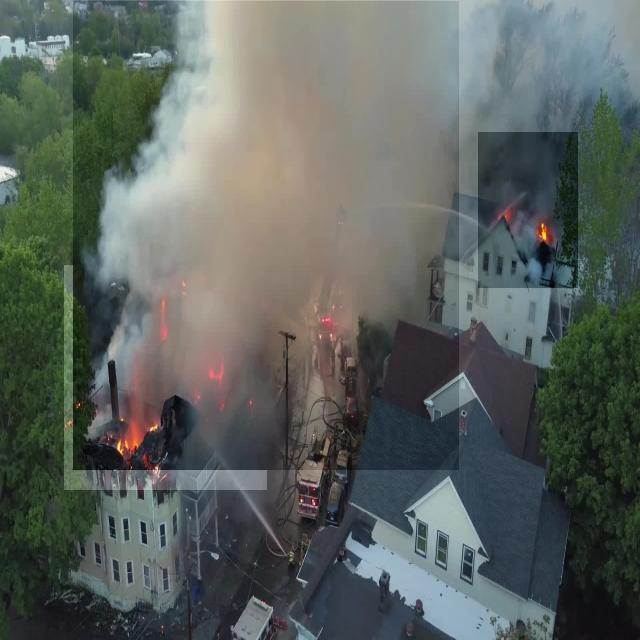Fire: (64, 265, 267, 490), (492, 192, 564, 266)
Smoke: (73, 1, 459, 470), (478, 132, 578, 288)
